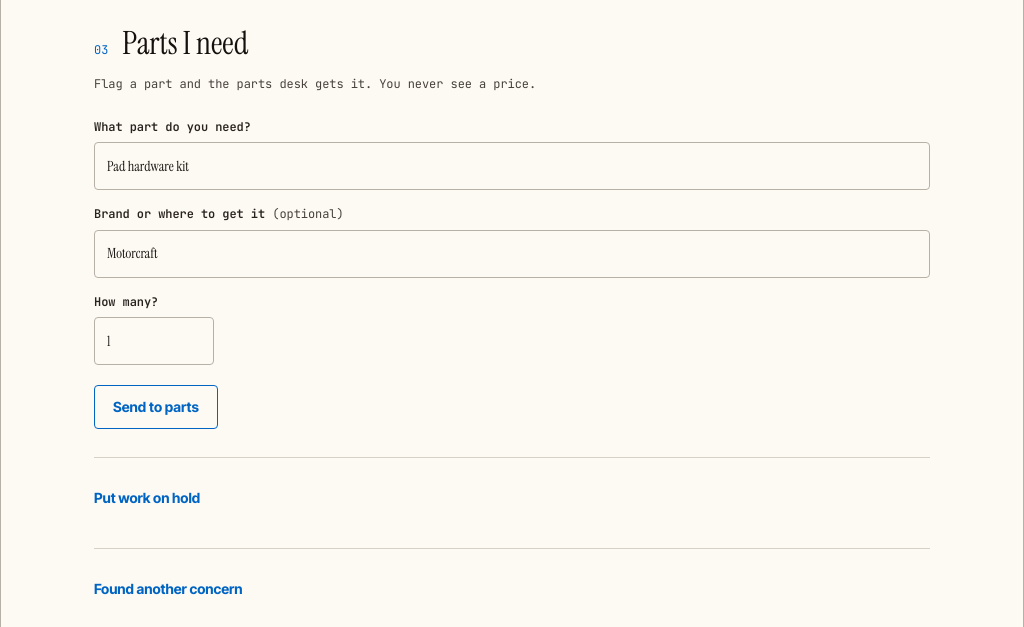
Test: simple work workspace › restores the current technician draft after a reload without changing the repair-order route
The image size is (1024, 627).
(page scrolled)
Click the heading "Found another concern" at (168, 588), box [94, 580, 242, 597]
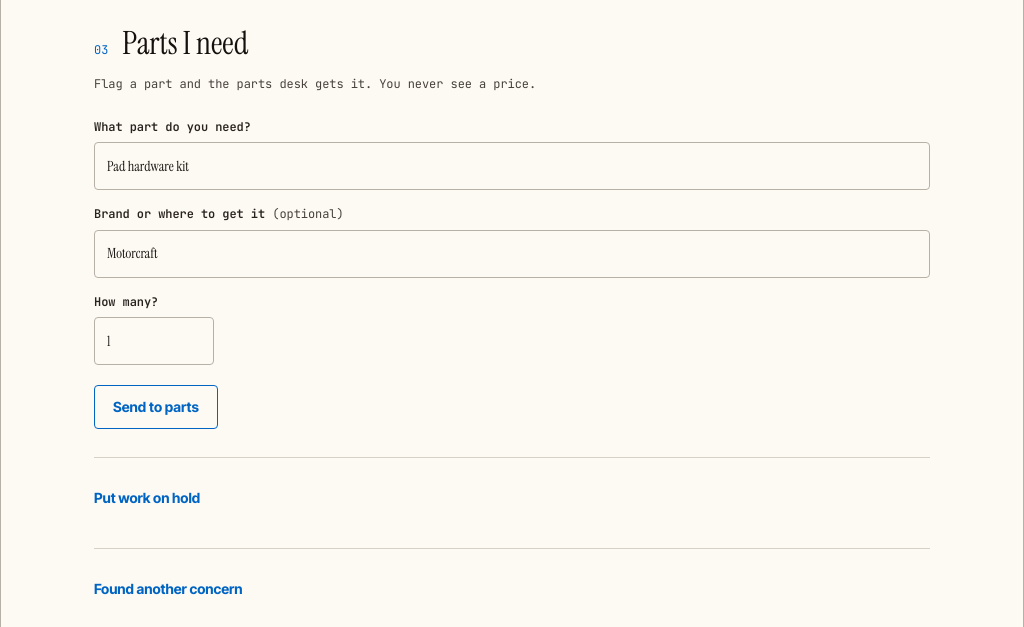
Expected: the field labelled "What part do you need?" holds "Pad hardware kit", [94, 142, 930, 190]
Click the heading "Put work on hold" at (147, 497), box [94, 489, 200, 506]
(page scrolled)
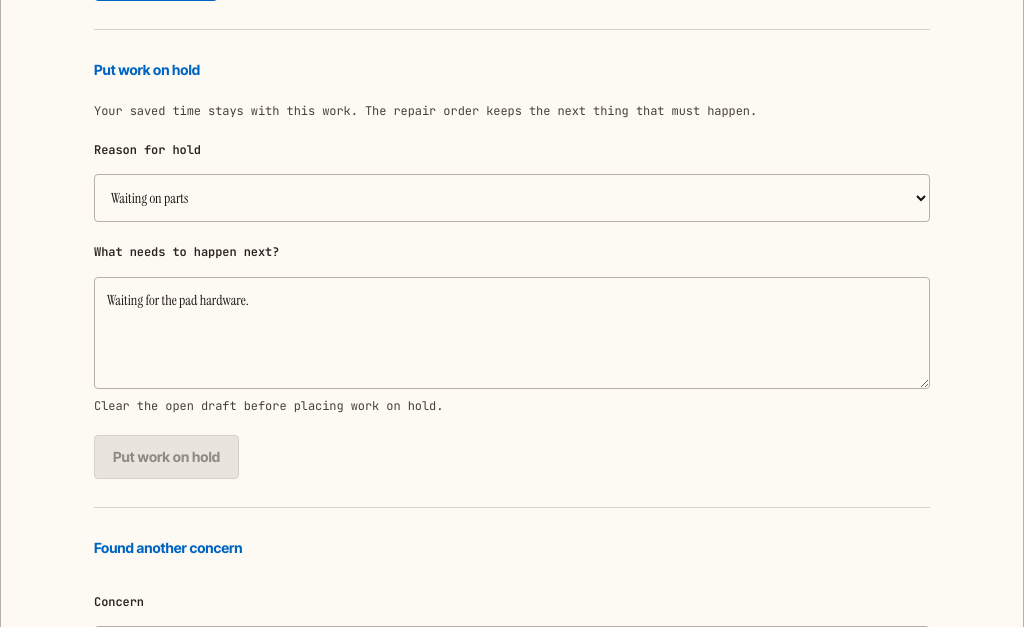
Expected: the dropdown labelled "Reason for hold" shows "Waiting on parts", [94, 174, 930, 222]
Expected: the text box labelled "What needs to happen next?" holds "Waiting for the pad hardware.", [94, 277, 930, 389]
